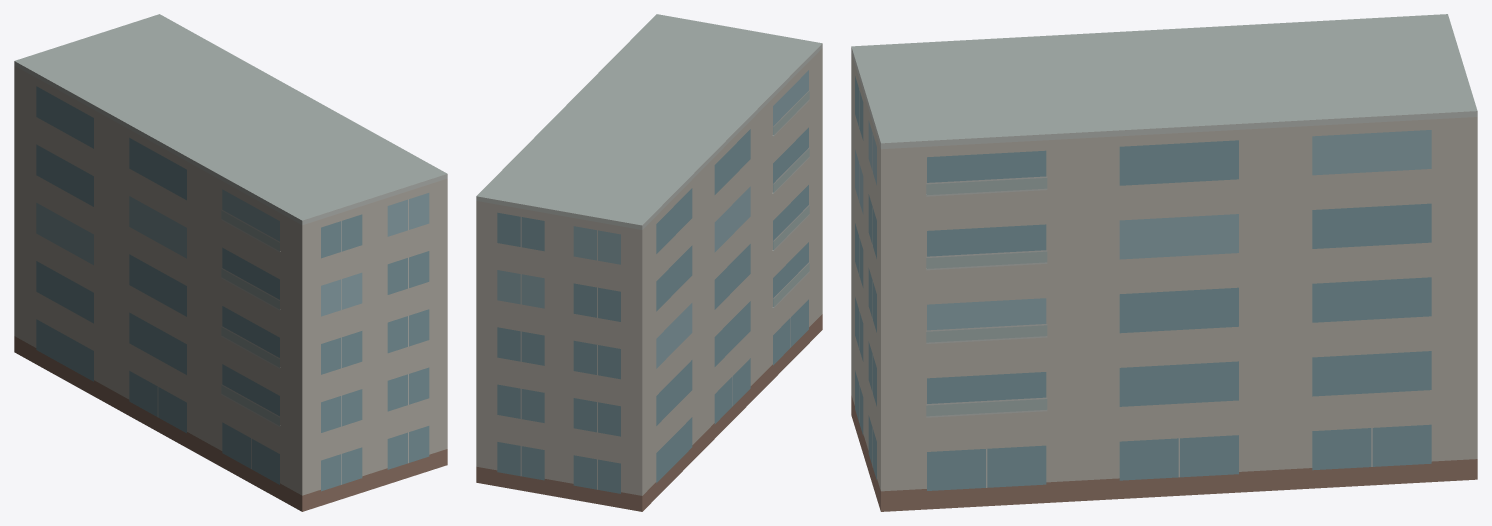
The model's file is survey-upis-32638634.glb.
3 renders of one model, left to right at view 1: azimuth 30°, elevation 25°; view 2: azimuth 150°, elevation 25°; view 3: azimuth 270°, elevation 25°, orthographic. The views are drawn at different scales.
Parts seen in each view (by area): view 1: survey-upis-32638634.tmp; view 2: survey-upis-32638634.tmp; view 3: survey-upis-32638634.tmp.
Part boxes in pixels (<box>): survey-upis-32638634.tmp: <box>14,14,447,511</box>; survey-upis-32638634.tmp: <box>476,14,822,511</box>; survey-upis-32638634.tmp: <box>851,14,1477,511</box>.
Bounding box in the file's own units: 11.49 × 15.25 × 23.5.
